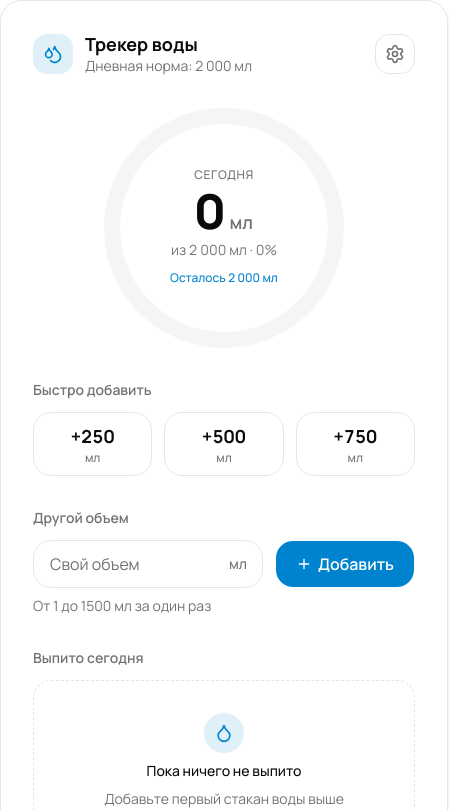
Test: WaterTracker: валидация формы › не отправляет запрос и показывает ошибку для значения "-250"
The width and height of the screenshot is (465, 810).
Type "-250" into the field with placeholder "Свой объем" at (148, 564), box [33, 540, 263, 588]
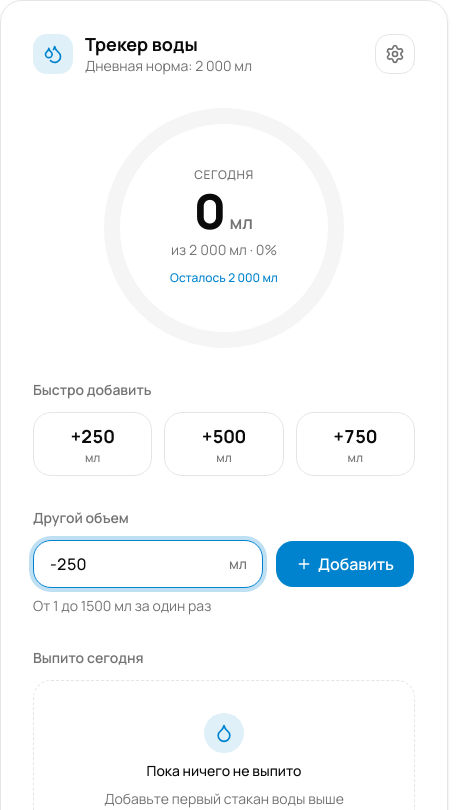
Click the button "Добавить" at (345, 564), box [275, 540, 415, 588]
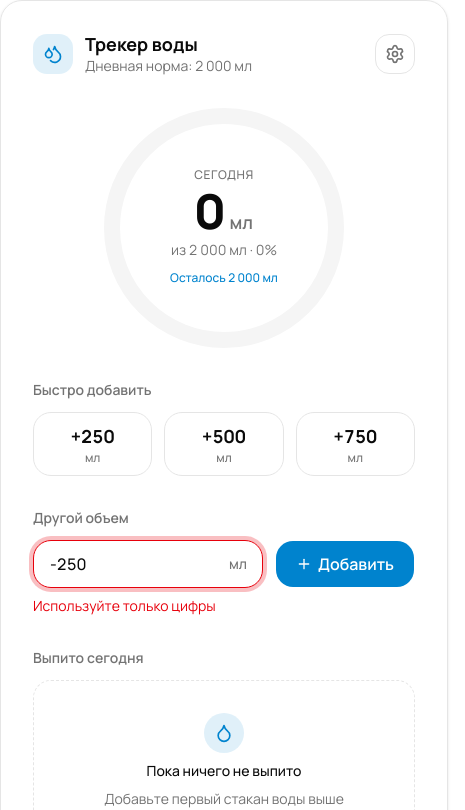
Expected: the message reads "Используйте только цифры", [33, 596, 216, 614]
